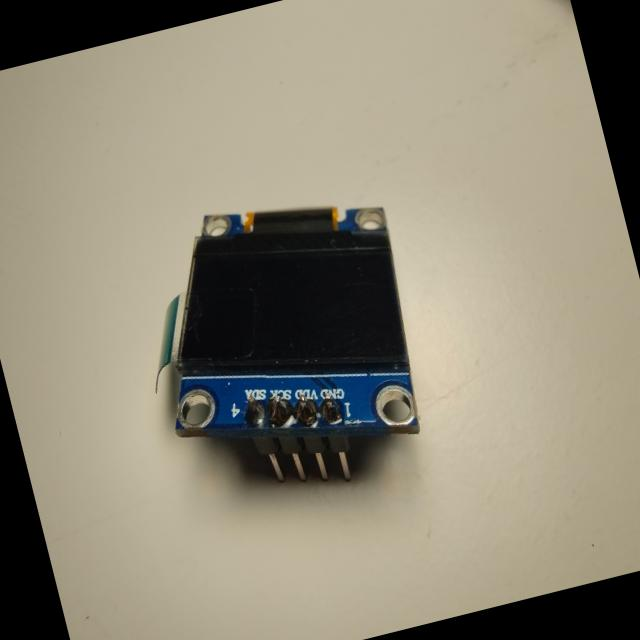oled: (108, 152, 458, 549)
